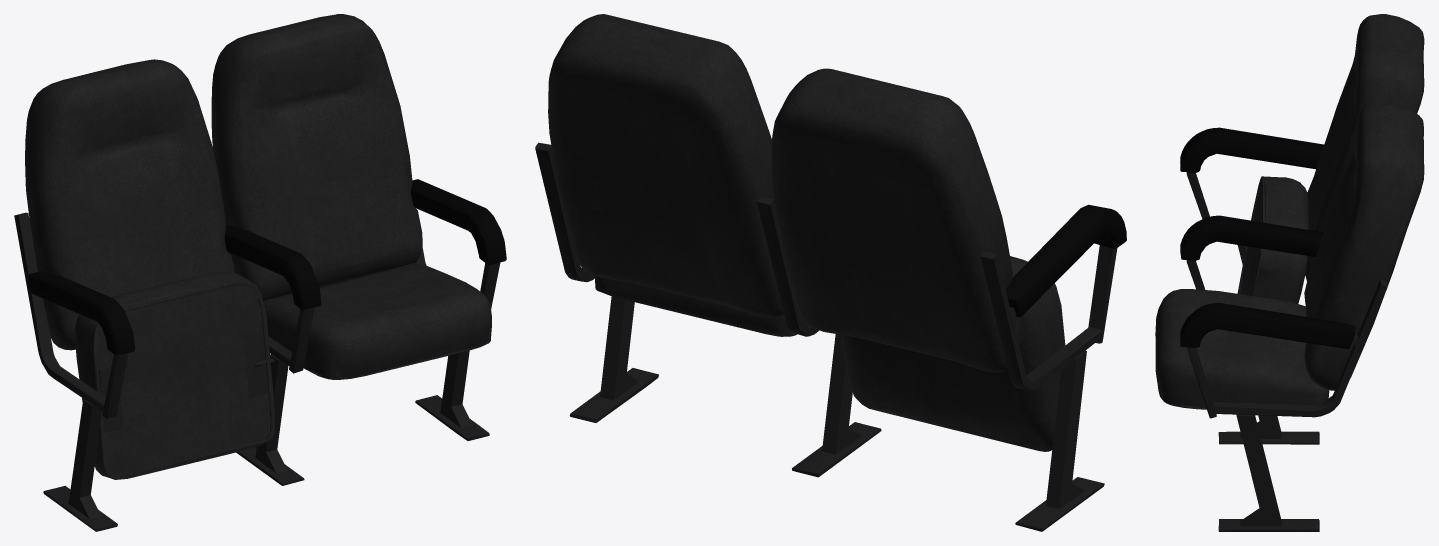
Rendered from Chairs 2.FBX.
The picture shows the model from 3 angles, left to right: view 1: azimuth 30°, elevation 25°; view 2: azimuth 150°, elevation 25°; view 3: azimuth 270°, elevation 25°; orthographic projection. The views are drawn at different scales.
Visible parts, largest first — view 1: Chairs 2; view 2: Chairs 2; view 3: Chairs 2.
Boxes of the visible parts, <box> form: Chairs 2: <box>14,14,506,531</box>; Chairs 2: <box>535,14,1126,531</box>; Chairs 2: <box>1155,14,1424,531</box>.
Size of the model in its own units: 101 by 90.94 by 61.86.
Materials: 3 (1 with a texture image).
